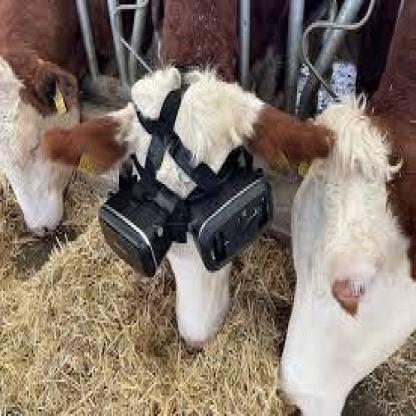cow: (44, 0, 339, 350), (279, 2, 416, 416), (0, 0, 83, 234)
